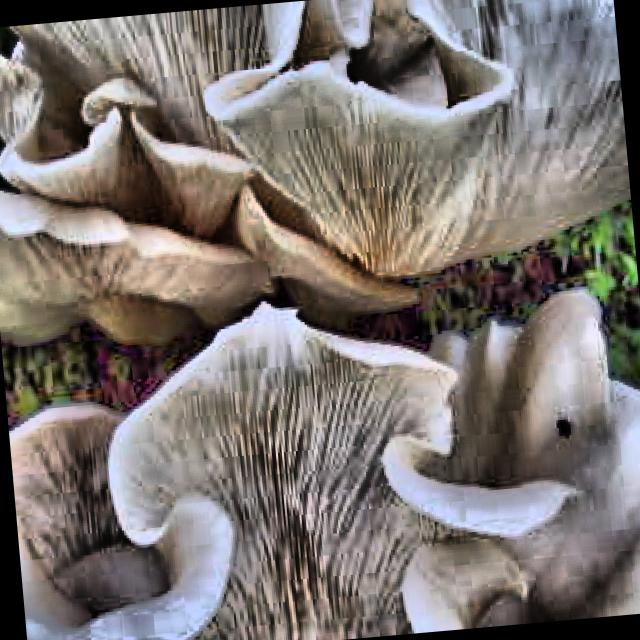Affected: (221, 414, 368, 640), (304, 173, 430, 307), (36, 250, 160, 316)
